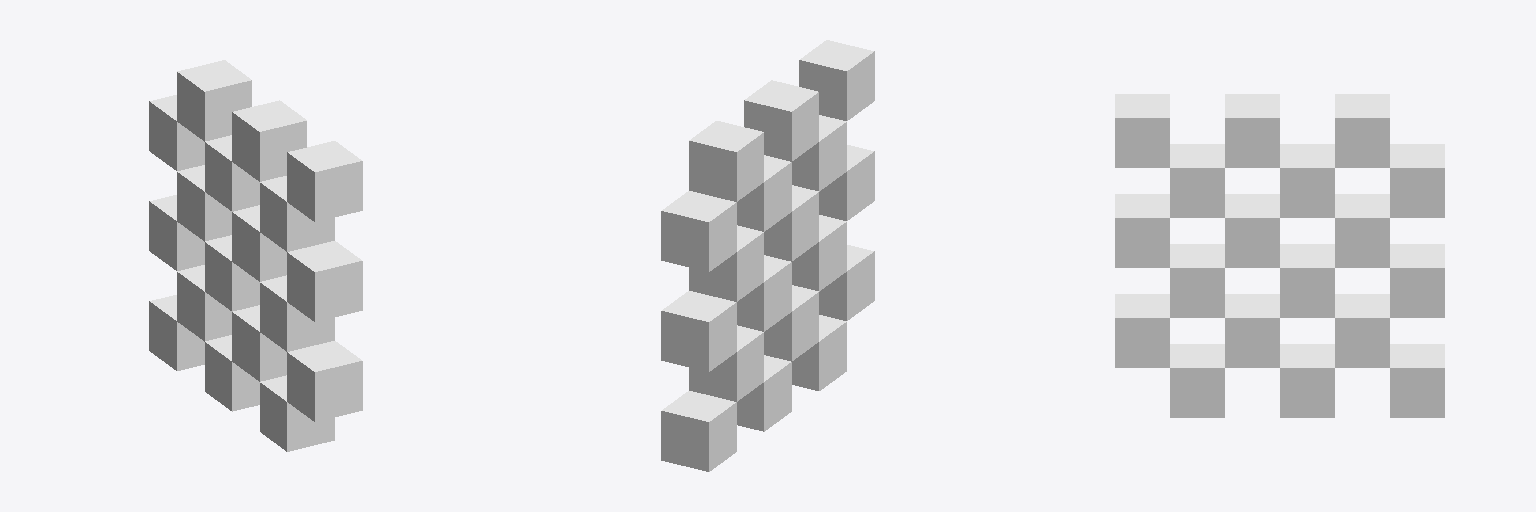
Rendered from VGrate.obj.
The picture shows the model from 3 angles: view 1: azimuth 30°, elevation 25°; view 2: azimuth 150°, elevation 25°; view 3: azimuth 270°, elevation 25°; orthographic projection.
Visible parts, largest first — view 1: object 1; view 2: object 1; view 3: object 1.
Part boxes in pixels (bbox=[...]): object 1: bbox=[149, 60, 362, 451]; object 1: bbox=[661, 40, 874, 471]; object 1: bbox=[1115, 94, 1444, 417].
Bounding box in the file's own units: 0.1 × 0.6 × 0.6.